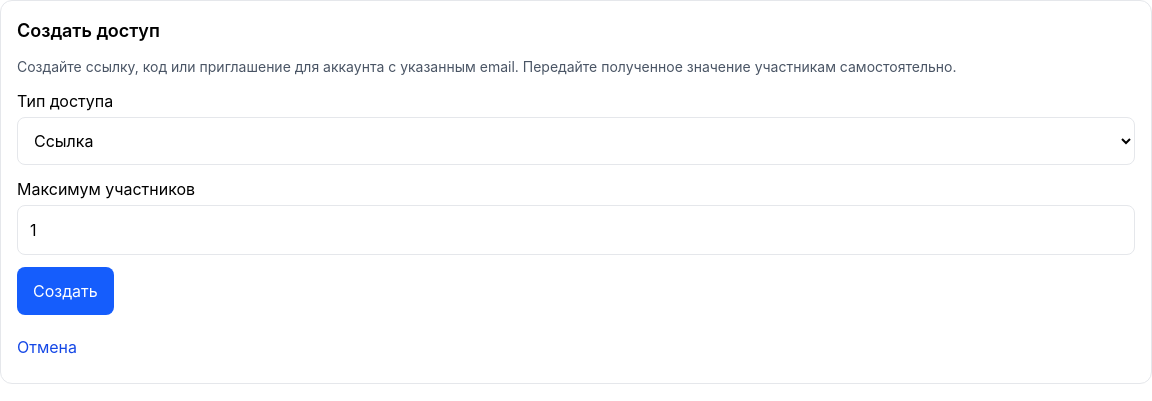
двойная отправка создаёт один код
Select "Код" in the dropdown labelled "Тип доступа" at {"x": 576, "y": 141}, box [17,117,1135,165]
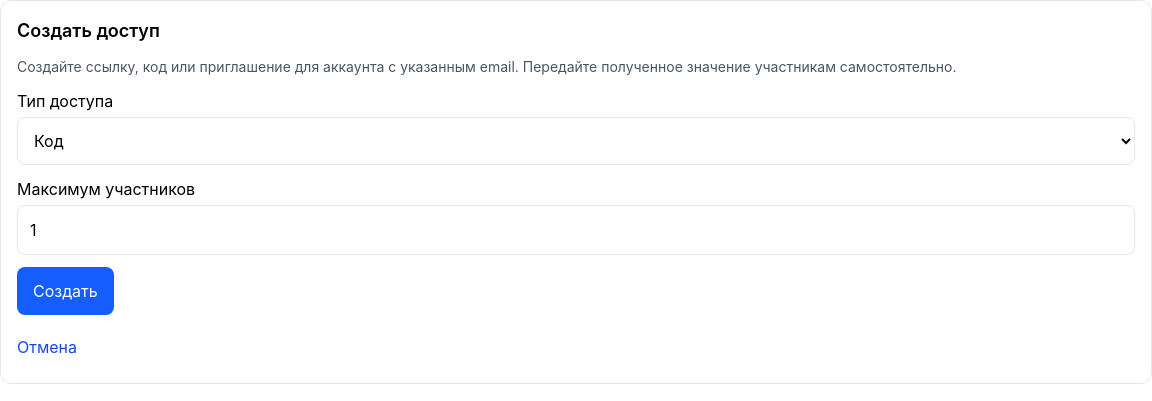
Submit the form "Создать", box [17,89,1135,315]
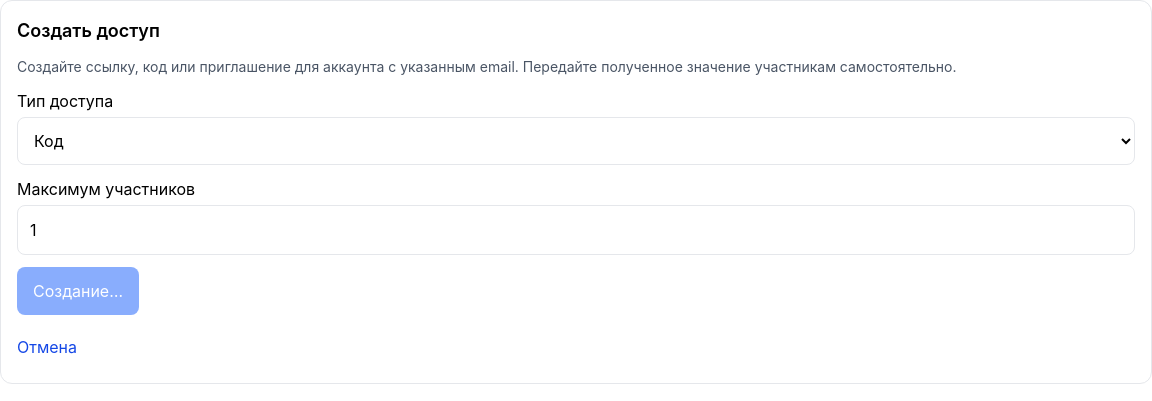
Submit the form named "Создать", box [17,89,1135,315]
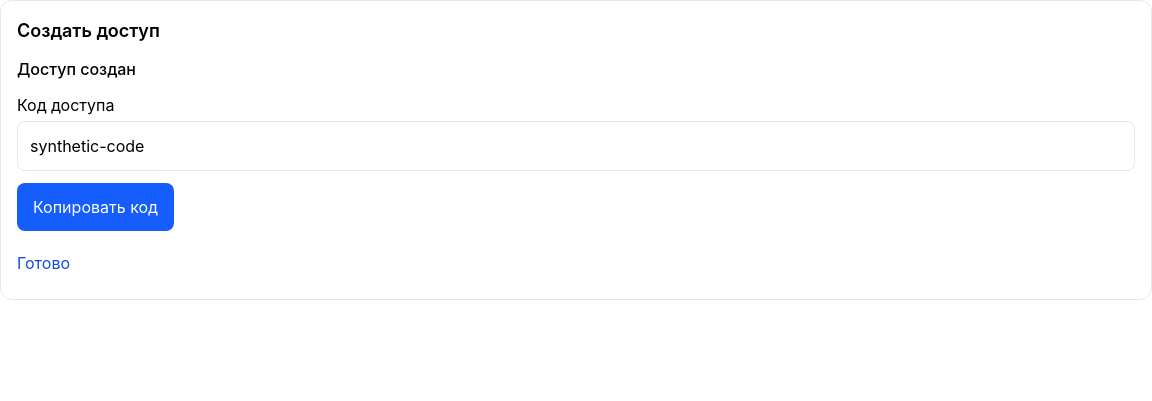
Check: the field labelled "Код доступа" holds "synthetic-code", box [17,121,1135,171]
